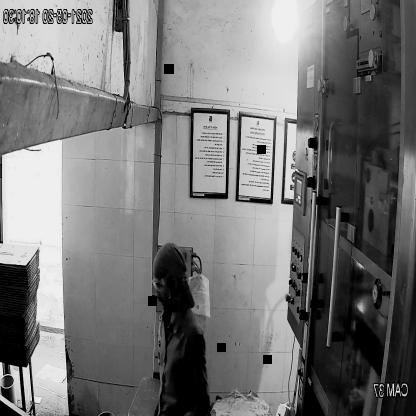goggles: (149, 276, 181, 296)
